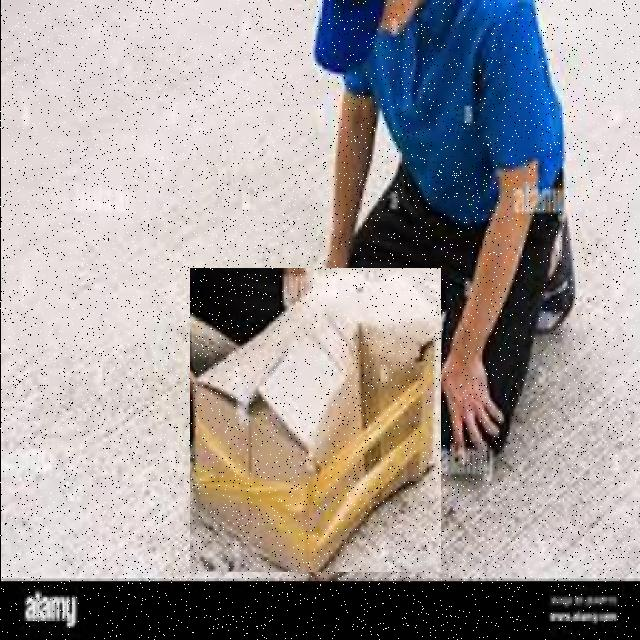defect: (189, 268, 440, 572)
